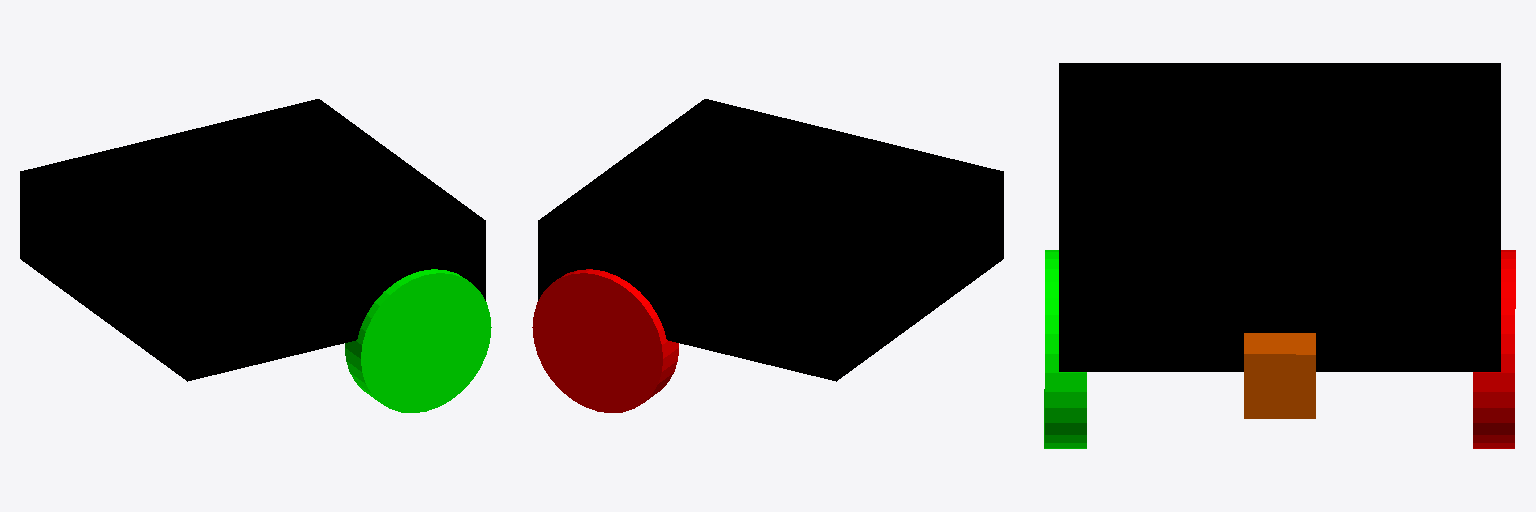
robot.urdf — platform:
<?xml version="1.0"?>
<robot name="platform">
  <material name="blue">
    <color rgba="0 0 0.8 1"/>
  </material>
  <material name="red">
    <color rgba="1 0 0 1"/>
  </material>
  <material name="black">
    <color rgba="0 0 0 0.5"/>
  </material>
  <material name="white">
    <color rgba="1 1 1 1"/>
  </material>
  <material name="green">
    <color rgba="0 1 0 1"/>
  </material>
   <material name="grey">
    <color rgba="0.5 0.5 0.5 1"/>
  </material>

 <joint name="base_link_to_base_footprint" type="fixed">
    <parent link="base_footprint"/>
    <child link="base_link"/>
    <origin xyz="0 0 0.045"/>
  </joint>

  <link name="base_footprint">
  </link>


  <link name="base_link">
    <visual>
      <geometry>
        <box size="0.32 0.31 0.09"/>
      </geometry>
      <material name="black"/>
      <origin rpy="0 0 0" xyz="-0.09 0 0.09"/>
    </visual>
  </link>

  <link name="right_wheel">
    <visual>
      <geometry>
        <cylinder length="0.03" radius="0.07"/>
      </geometry>
      <material name="green"/>
    </visual>
  </link>

  <joint name="base_to_right_wheel" type="fixed">
    <parent link="base_link"/>
    <child link="right_wheel"/>
    <origin rpy="1.57 0 0" xyz="0.0 -.15 0.03"/>
  </joint>

  <link name="left_wheel">
    <visual>
      <geometry>
        <cylinder length="0.03" radius="0.07"/>
      </geometry>
      <material name="red"/>
    </visual>
  </link>

  <joint name="base_to_left_wheel" type="fixed">
    <parent link="base_link"/>
    <child link="left_wheel"/>
    <origin rpy="1.57 0 0" xyz="0.0 0.15 0.03"/>
  </joint>

   <link name="scan_link">
    <visual>
      <geometry>
        <cylinder length="0.03" radius="0.03"/>
      </geometry>
      <material name="grey"/>
    </visual>
   </link>

  <joint name="base_link_to_scan_link" type="fixed">
    <parent link="base_link"/>
    <child link="scan_link"/>
    <origin xyz="-0.17 0 0.1" rpy="0 0 3.141"/>
  </joint>

   <link name="camera_link">
    <visual>
      <geometry>
        <box size="0.05 0.05 0.05"/>
      </geometry>
      <material name="purple"/>
    </visual>
   </link>

  <joint name="base_link_to_camera_link" type="fixed">
    <parent link="base_link"/>
    <child link="camera_link"/>
    <origin xyz="0.08 0 0.05" rpy="0 0 3.141"/>
  </joint>


 <link name="imu_link">
    <visual>
      <geometry>
        <box size=".03 .03 .005"/>
      </geometry>
      <material name="white"/>
    </visual>
   </link>

  <joint name="base_link_to_imu_link" type="fixed">
    <parent link="base_link"/>
    <child link="imu_link"/>
    <origin xyz="-0.02 0 0.05"/>
  </joint>


</robot>

--- Facts derived from the render (not from the file) ---
3 views of the same robot in one strip: view 1: azimuth 30°, elevation 25°; view 2: azimuth 150°, elevation 25°; view 3: azimuth 270°, elevation 25° (orthographic).
Robot: platform — 7 links, 6 joints (6 fixed); root link base_footprint; default pose: all joints at 0.
Visible links, largest first — view 1: base_link, right_wheel; view 2: base_link, left_wheel; view 3: base_link, camera_link, right_wheel, left_wheel.
Link boxes in pixels (box(x1,y1,x2,y2)): base_link: box(20, 99, 485, 381); right_wheel: box(345, 269, 491, 412); base_link: box(538, 99, 1003, 381); left_wheel: box(532, 269, 678, 412); base_link: box(1059, 63, 1500, 371); camera_link: box(1244, 333, 1315, 418); right_wheel: box(1044, 250, 1086, 448); left_wheel: box(1473, 250, 1515, 448).
Size in the robot's own frame: 0.355 by 0.3301 by 0.175 metres.
Geometry: primitives only (box / cylinder / sphere), no mesh files.